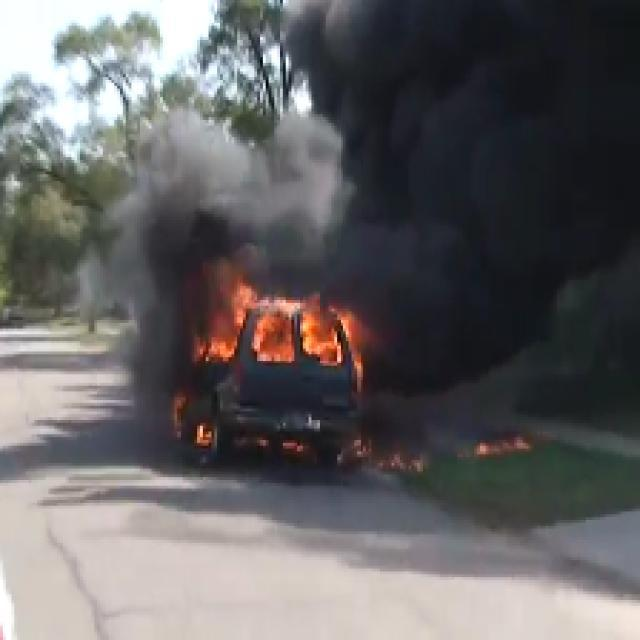Fire: (228, 302, 344, 352)
Smoke: (303, 0, 640, 349)
